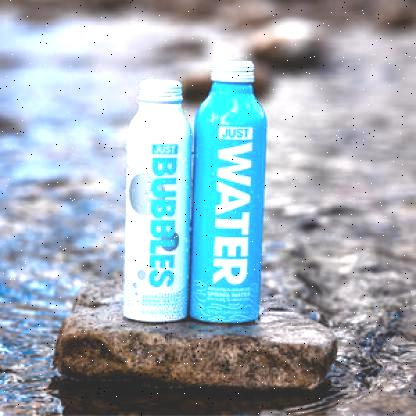Plastic Bottle: (190, 61, 267, 324), (123, 79, 192, 323)
